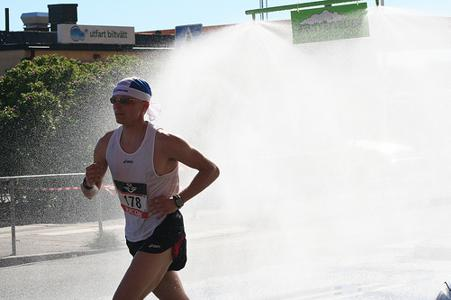person: (81, 77, 223, 300)
